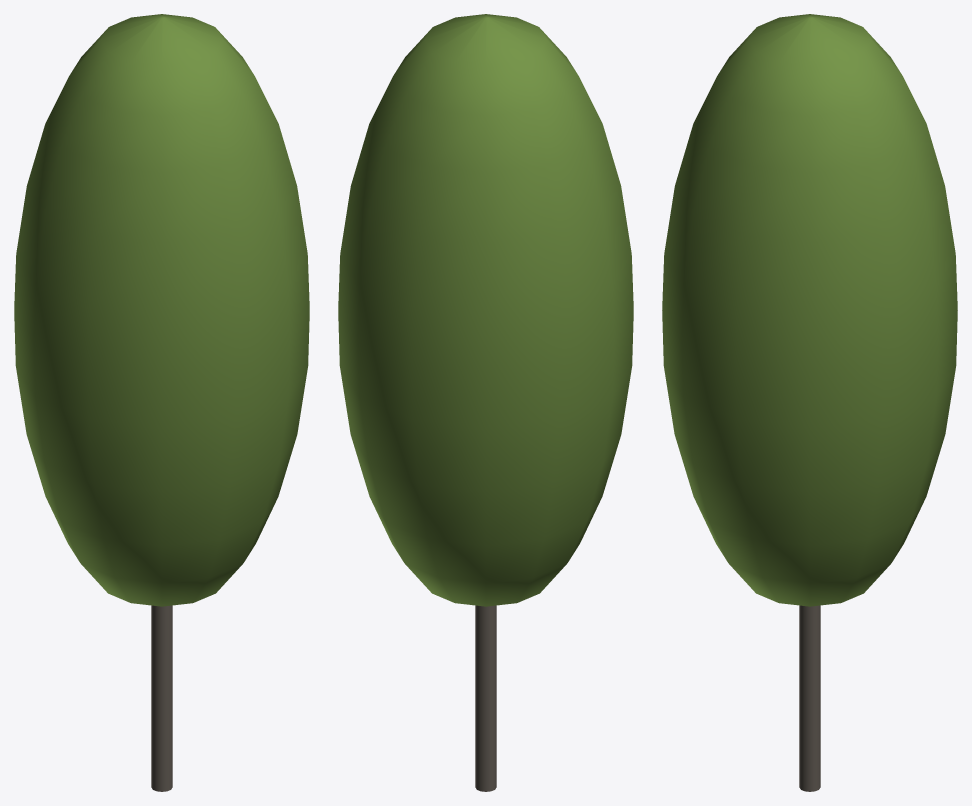
File: California_Incense_Cedar_Analytical_0.obj
The picture shows the model from 3 angles, left to right: view 1: azimuth 30°, elevation 25°; view 2: azimuth 150°, elevation 25°; view 3: azimuth 270°, elevation 25°; orthographic projection.
Visible parts, largest first — view 1: AnalyticalCrown, AnalyticalTrunk; view 2: AnalyticalCrown, AnalyticalTrunk; view 3: AnalyticalCrown, AnalyticalTrunk.
Part boxes in pixels (x1,y1,x2,y2): AnalyticalCrown: (14, 14, 309, 606); AnalyticalTrunk: (151, 605, 172, 791); AnalyticalCrown: (338, 14, 633, 606); AnalyticalTrunk: (475, 605, 496, 791); AnalyticalCrown: (662, 14, 957, 606); AnalyticalTrunk: (799, 605, 820, 791).
Bounding box in the file's own units: 8.7 × 25 × 8.7.
